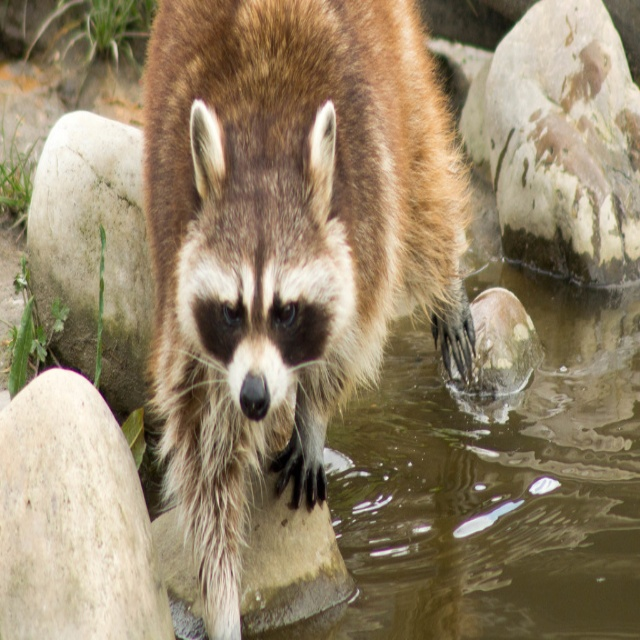Raccoon: (139, 1, 489, 640)
